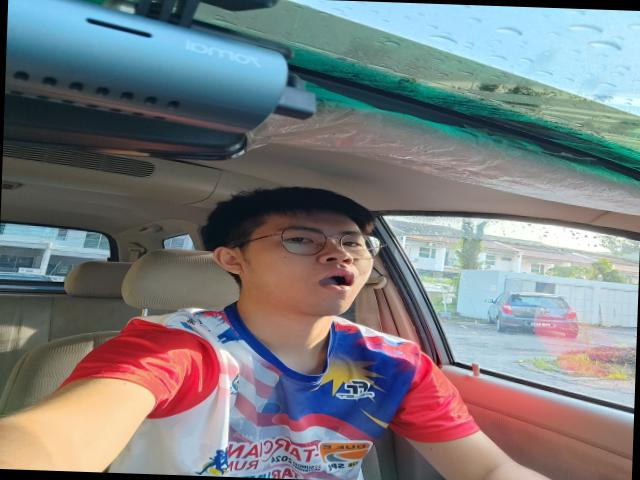eye_open: (280, 233, 317, 249), (338, 237, 364, 250)
face: (255, 214, 383, 316)
mouth_open: (317, 266, 358, 294)
